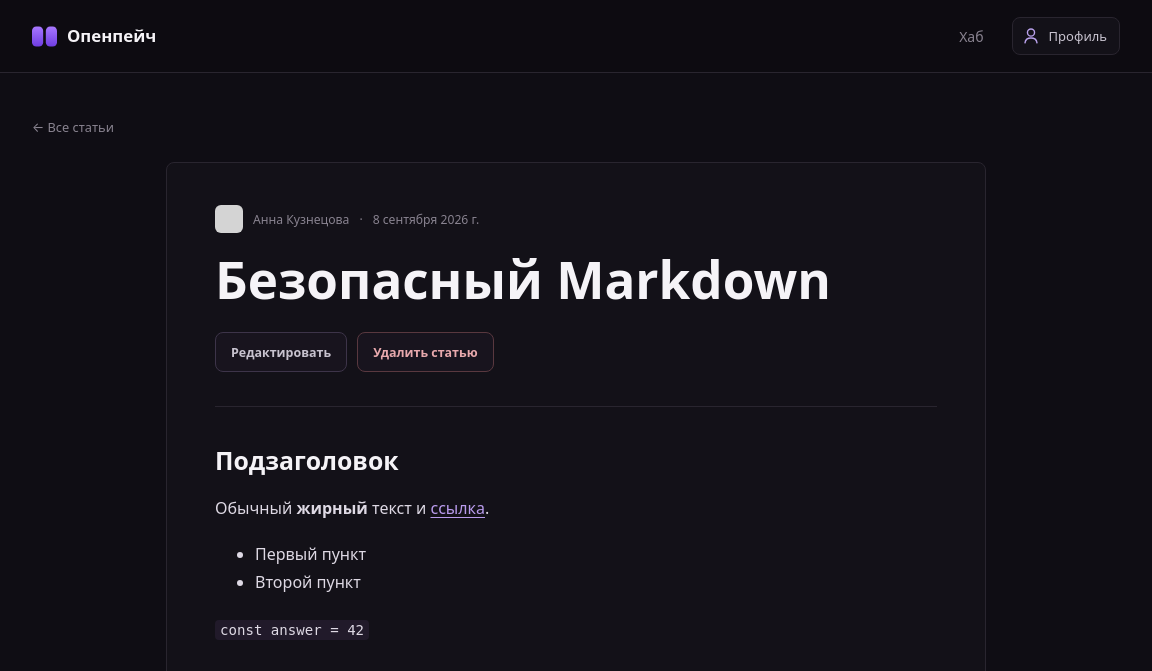
ArticlePage › оставляет статью на месте при ошибке удаления
Click the button "Удалить статью".
click(425, 352)  # box x1=357 y1=332 x2=494 y2=372
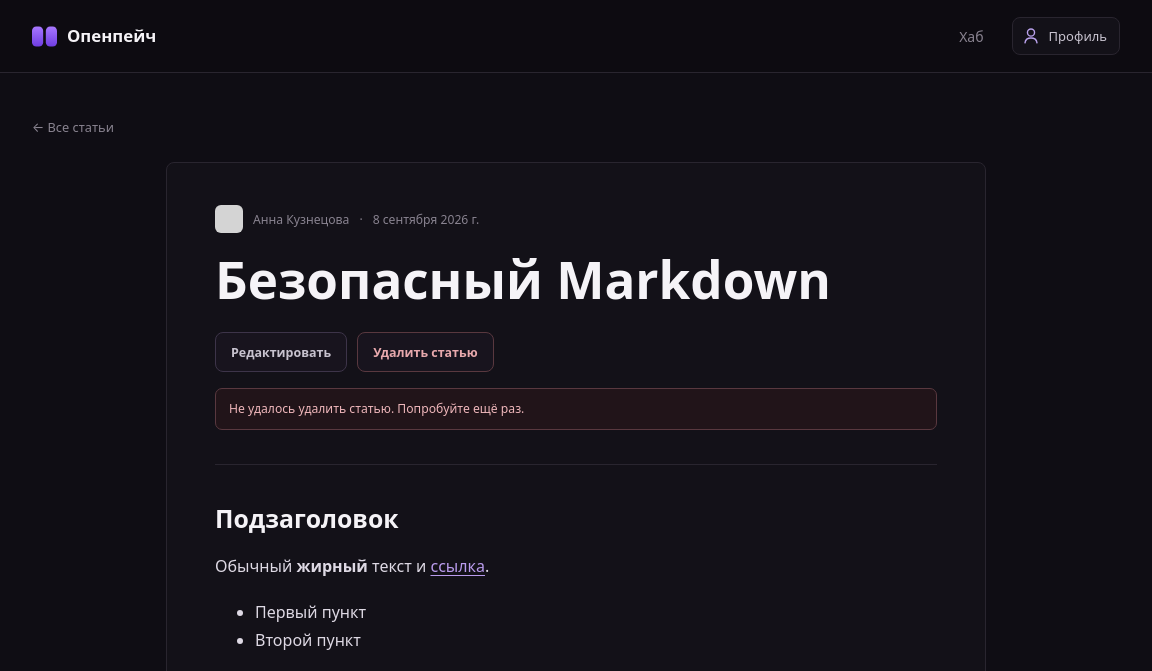
Expected: the heading "Безопасный Markdown" is shown, x1=215 y1=251 x2=937 y2=308
Expected: the message shows "Не удалось удалить статью", x1=229 y1=400 x2=524 y2=417
